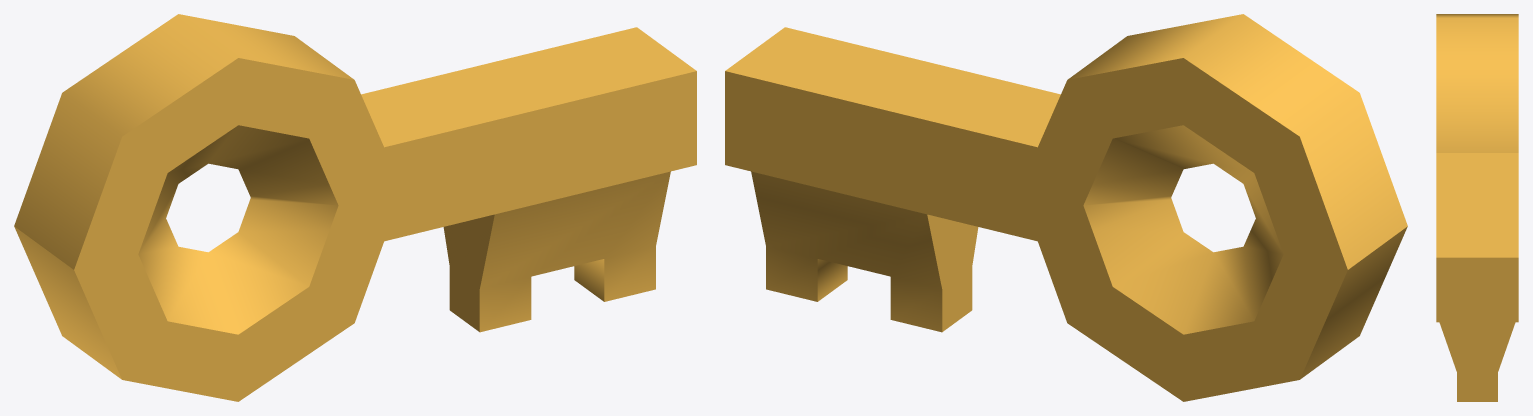
Rendered from key.fbx.
3 renders of one model, left to right at view 1: azimuth 30°, elevation 25°; view 2: azimuth 150°, elevation 25°; view 3: azimuth 270°, elevation 25°, orthographic. The views are drawn at different scales.
Parts seen in each view (by area): view 1: key; view 2: key; view 3: key.
Boxes of the visible parts, x1,y1,x2,y2 form: key: [14, 14, 696, 401]; key: [725, 14, 1407, 401]; key: [1436, 14, 1518, 401].
Size of the model in its own units: 4.07 by 2.17 by 0.6786.
